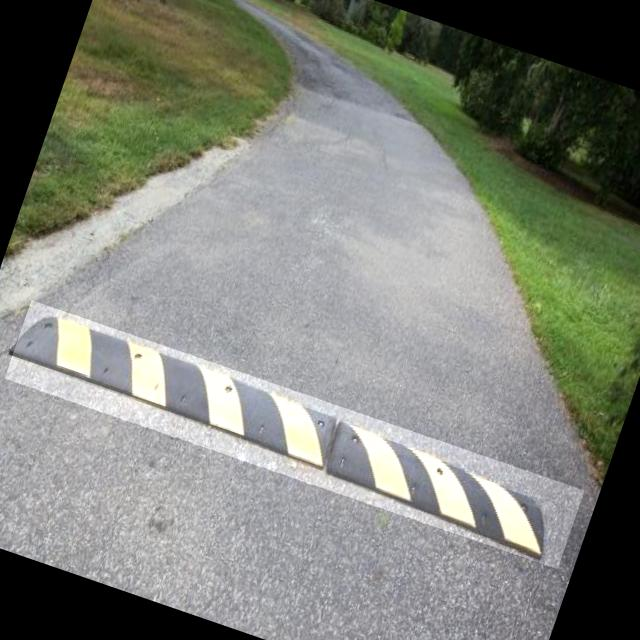bump: (4, 300, 584, 568)
